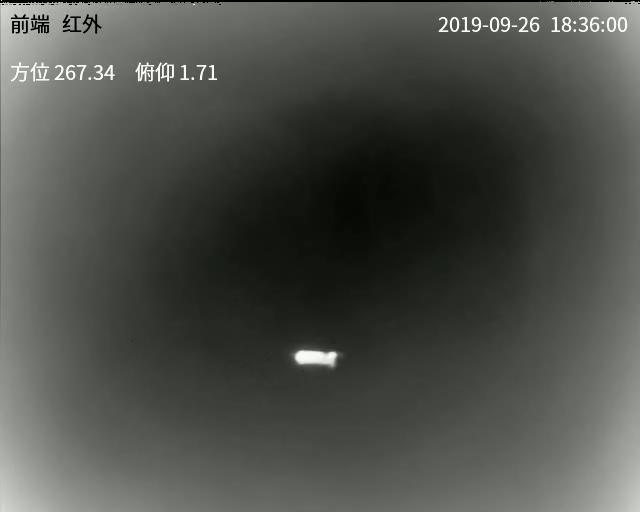uav: (285, 344, 335, 372)
